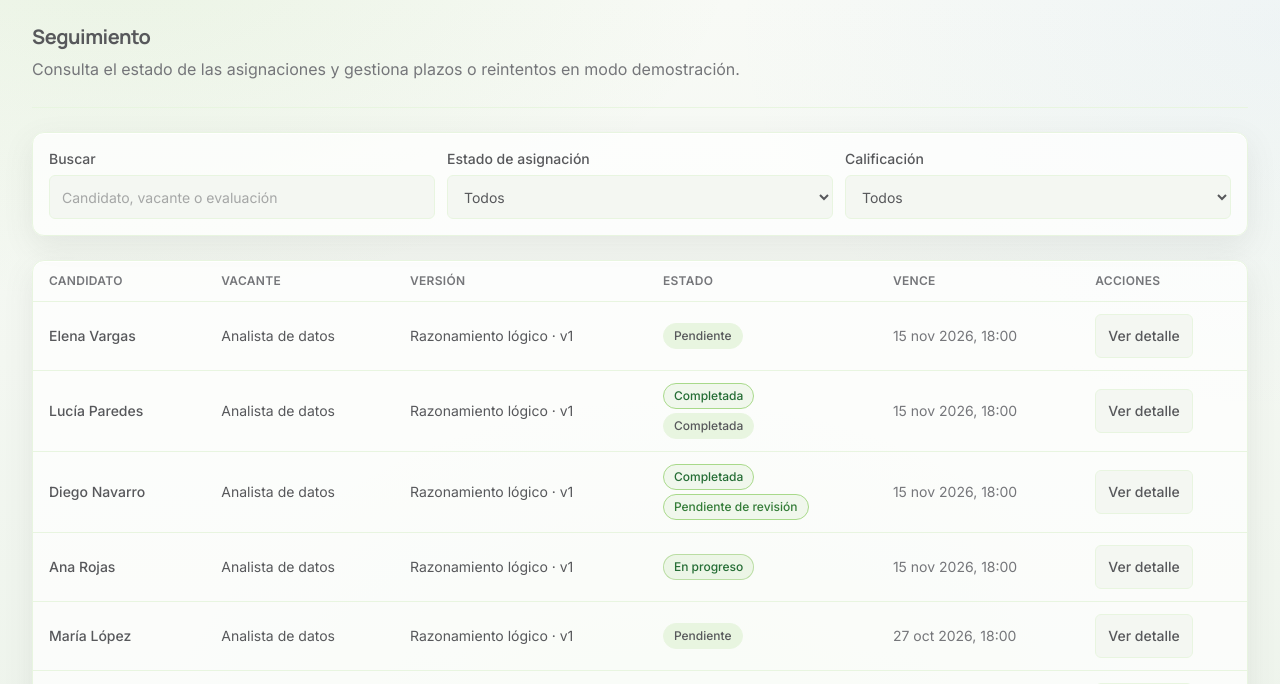
PruebasTrackingScreen UI › lets Elena cancel but not remind, and records a reminder without claiming email
Step 1. Click the button "Ver detalle" in the row of "Elena Vargas" → (1144, 336), box [1095, 314, 1193, 358]
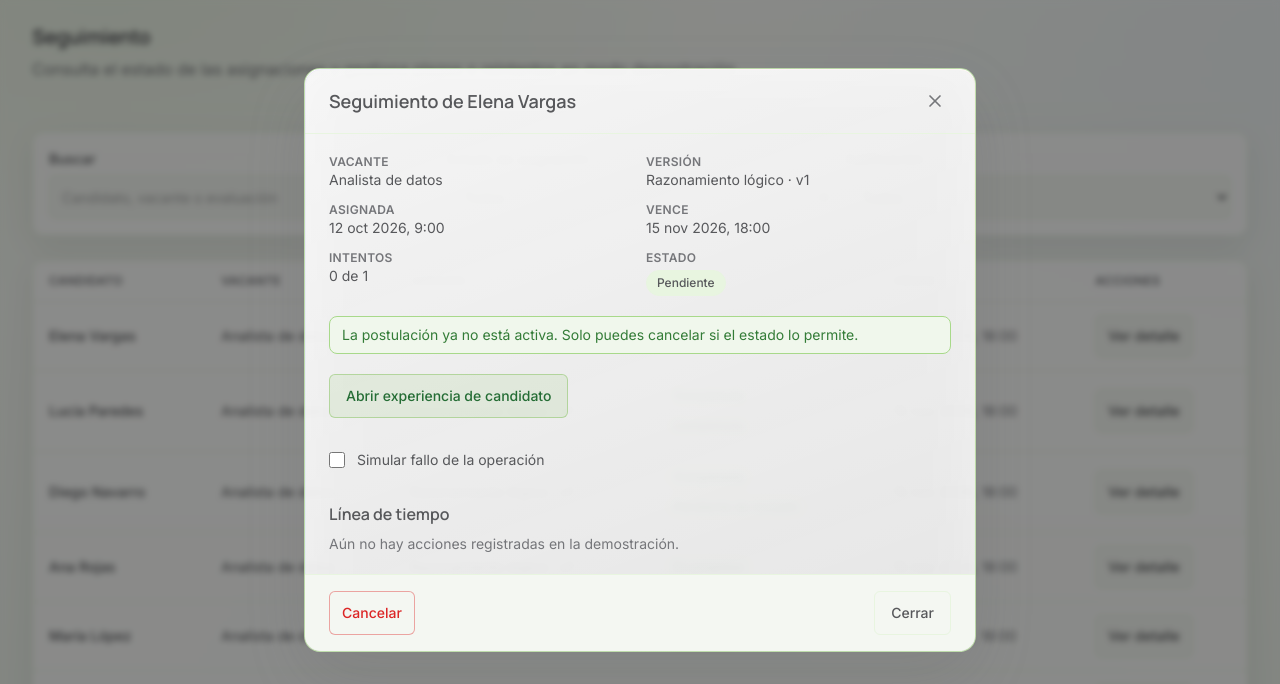
Check: the element with test id "tracking-detail" is shown, box [329, 154, 951, 554]
Check: the text with test id "tracking-application-closed" is shown, box [329, 316, 951, 354]
Check: the button with test id "tracking-action-cancel" is shown, box [329, 591, 415, 635]
